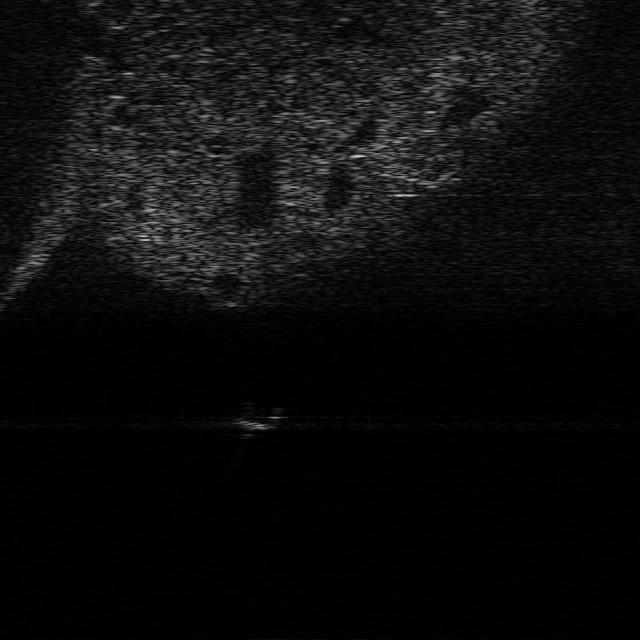cube: (229, 400, 285, 431)
